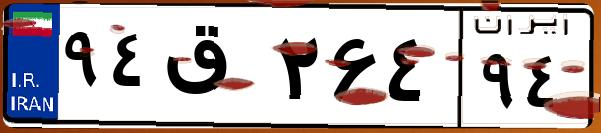2: (270, 28, 330, 110)
4: (385, 28, 445, 110), (525, 38, 570, 115), (110, 28, 158, 98)
6: (330, 28, 385, 110)
9: (57, 26, 110, 100), (475, 38, 525, 113)
ق: (158, 20, 270, 120)
